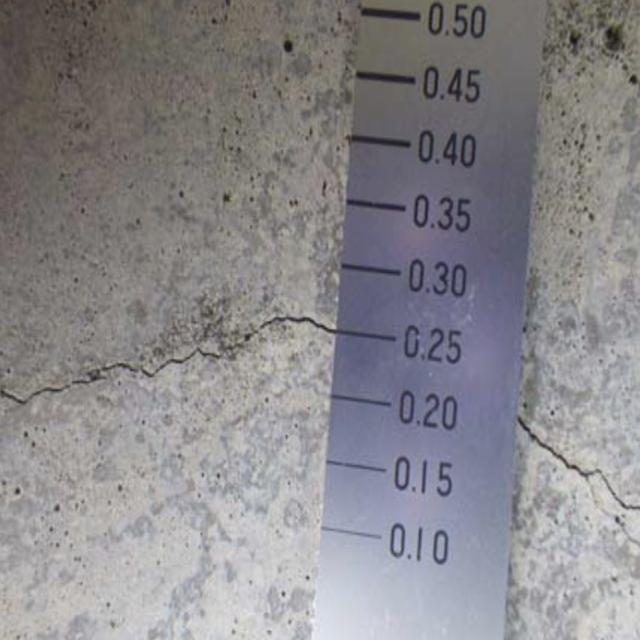crack: (7, 297, 330, 404), (524, 399, 640, 550)
